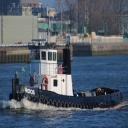tugboat: (9, 7, 125, 115)
